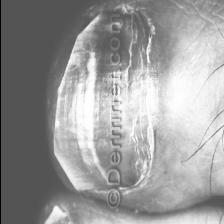Toxin: (55, 9, 108, 193), (120, 3, 158, 191)
